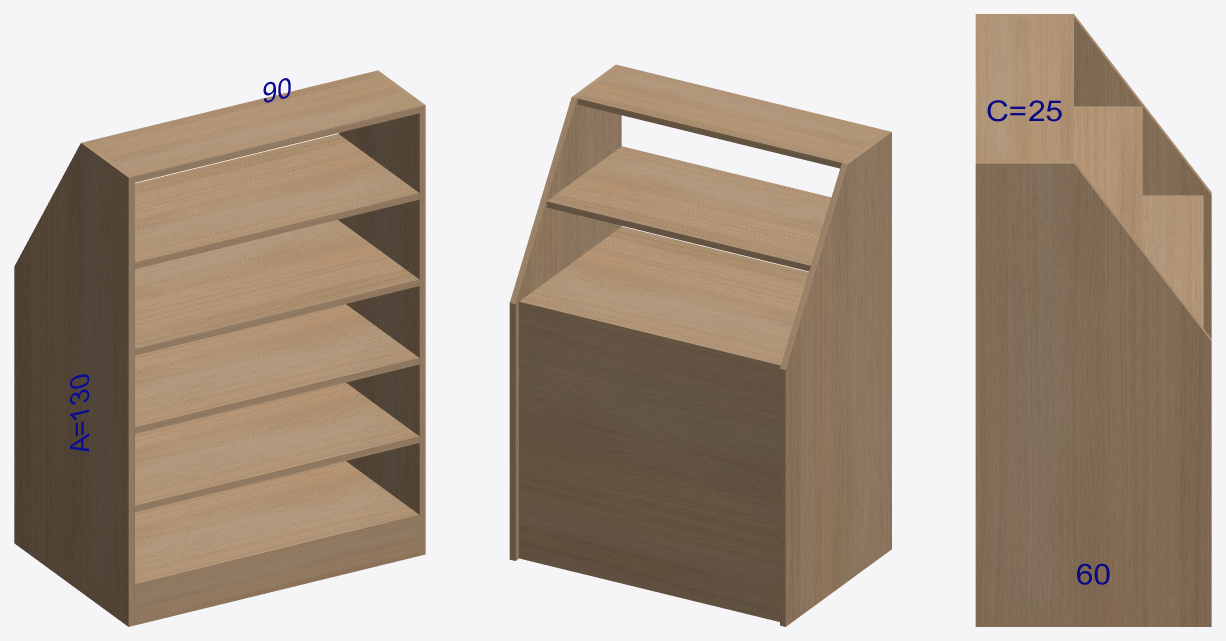
3 views of the same model, side by side, from view 1: azimuth 30°, elevation 25°; view 2: azimuth 150°, elevation 25°; view 3: azimuth 270°, elevation 25° (orthographic). The views are drawn at different scales.
Visible parts, largest first — view 1: {1421F9CF-2CFE-4b4d-A055-C2C7C17942A7}_Node, {0BE230FA-18E2-444a-BD1B-36501B3EF937}_Node, {C6C4CD3A-4AC4-48ec-87C4-F15A3A82BEEE}_Node, {F5FAC232-922D-4aa5-B254-27436E403A9A}_Node, {68832907-EBC3-4529-9D6C-C2AE25CDEFBB}_Node, {7D81BBF4-5ED0-4fea-B007-97F2D1863667}_Node, {4B15751E-2ADB-4265-B47B-6492C91A40C9}_Node, {85C341E9-AC58-4c8b-BB04-1B82618CA52C}_Node, {1222EC8B-4580-4971-900B-4E0D03917505}_Node; view 2: {4E81F64B-C698-4059-90F0-C7D6CEEEEEB4}_Node, {1421F9CF-2CFE-4b4d-A055-C2C7C17942A7}_Node, {0BE230FA-18E2-444a-BD1B-36501B3EF937}_Node, {C6C4CD3A-4AC4-48ec-87C4-F15A3A82BEEE}_Node, {85C341E9-AC58-4c8b-BB04-1B82618CA52C}_Node, {4B15751E-2ADB-4265-B47B-6492C91A40C9}_Node; view 3: {4B15751E-2ADB-4265-B47B-6492C91A40C9}_Node, {85C341E9-AC58-4c8b-BB04-1B82618CA52C}_Node, {1421F9CF-2CFE-4b4d-A055-C2C7C17942A7}_Node, {C6C4CD3A-4AC4-48ec-87C4-F15A3A82BEEE}_Node, {0BE230FA-18E2-444a-BD1B-36501B3EF937}_Node, {4E81F64B-C698-4059-90F0-C7D6CEEEEEB4}_Node, {078D9EA9-C6C5-47b8-8CC4-3F9A0BB84FF9}_Node, {2A5C3C7D-8059-47a4-BFCA-785BE8A75876}_Node.
Boxes of the visible parts, bbox=[...] form: {1421F9CF-2CFE-4b4d-A055-C2C7C17942A7}_Node: bbox=[14, 141, 134, 626]; {0BE230FA-18E2-444a-BD1B-36501B3EF937}_Node: bbox=[135, 219, 419, 355]; {C6C4CD3A-4AC4-48ec-87C4-F15A3A82BEEE}_Node: bbox=[135, 134, 419, 268]; {F5FAC232-922D-4aa5-B254-27436E403A9A}_Node: bbox=[135, 304, 419, 433]; {68832907-EBC3-4529-9D6C-C2AE25CDEFBB}_Node: bbox=[135, 382, 419, 512]; {7D81BBF4-5ED0-4fea-B007-97F2D1863667}_Node: bbox=[135, 461, 419, 590]; {4B15751E-2ADB-4265-B47B-6492C91A40C9}_Node: bbox=[338, 70, 425, 555]; {85C341E9-AC58-4c8b-BB04-1B82618CA52C}_Node: bbox=[87, 72, 419, 182]; {1222EC8B-4580-4971-900B-4E0D03917505}_Node: bbox=[135, 521, 419, 625]; {4E81F64B-C698-4059-90F0-C7D6CEEEEEB4}_Node: bbox=[519, 299, 781, 621]; {1421F9CF-2CFE-4b4d-A055-C2C7C17942A7}_Node: bbox=[780, 130, 891, 626]; {0BE230FA-18E2-444a-BD1B-36501B3EF937}_Node: bbox=[523, 226, 808, 362]; {C6C4CD3A-4AC4-48ec-87C4-F15A3A82BEEE}_Node: bbox=[546, 146, 831, 271]; {85C341E9-AC58-4c8b-BB04-1B82618CA52C}_Node: bbox=[577, 66, 885, 168]; {4B15751E-2ADB-4265-B47B-6492C91A40C9}_Node: bbox=[509, 64, 621, 560]; {4B15751E-2ADB-4265-B47B-6492C91A40C9}_Node: bbox=[975, 160, 1211, 626]; {85C341E9-AC58-4c8b-BB04-1B82618CA52C}_Node: bbox=[975, 17, 1073, 160]; {1421F9CF-2CFE-4b4d-A055-C2C7C17942A7}_Node: bbox=[975, 14, 1211, 338]; {C6C4CD3A-4AC4-48ec-87C4-F15A3A82BEEE}_Node: bbox=[1074, 106, 1142, 248]; {0BE230FA-18E2-444a-BD1B-36501B3EF937}_Node: bbox=[1142, 195, 1196, 318]; {4E81F64B-C698-4059-90F0-C7D6CEEEEEB4}_Node: bbox=[1196, 195, 1203, 327]; {078D9EA9-C6C5-47b8-8CC4-3F9A0BB84FF9}_Node: bbox=[987, 100, 1061, 121]; {2A5C3C7D-8059-47a4-BFCA-785BE8A75876}_Node: bbox=[1077, 563, 1109, 584].
Bounding box in the file's own units: 1.26 × 1.48 × 0.6006.
Materials: 16 (11 with a texture image).
